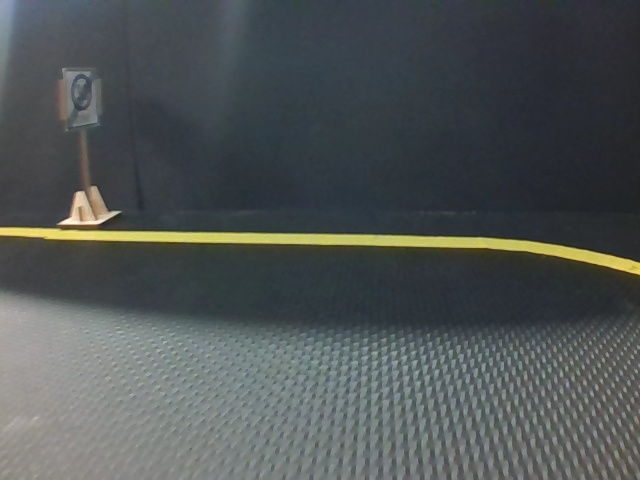no30: (63, 70, 99, 127)
